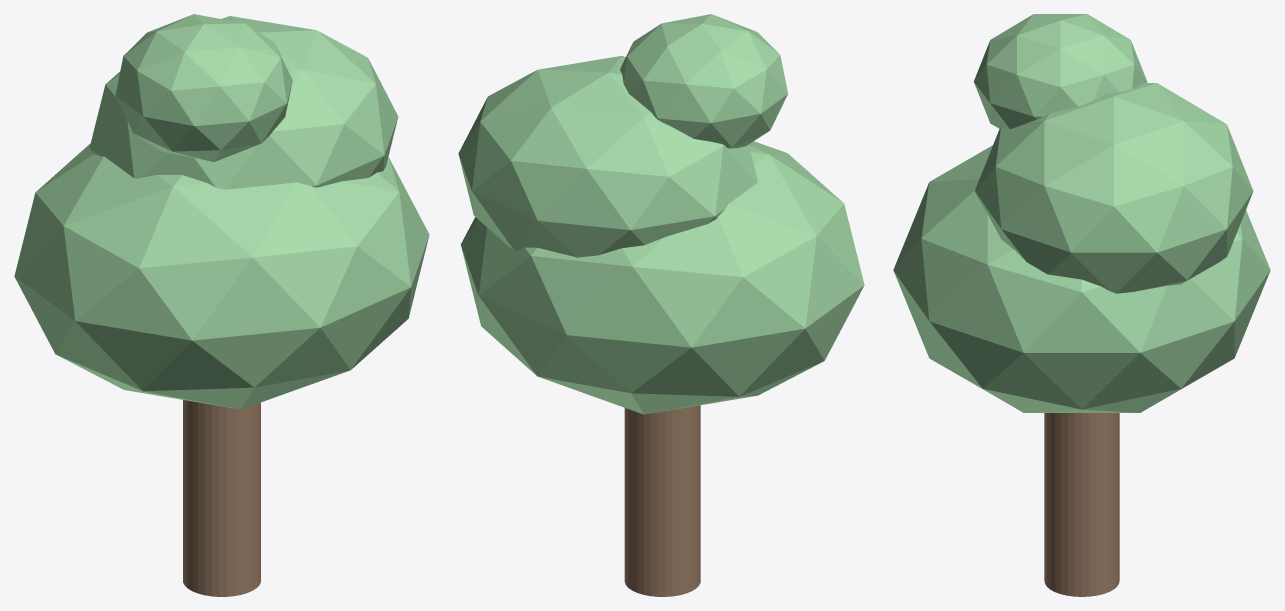
File: fantasy_tree.glb
The picture shows the model from 3 angles, left to right: view 1: azimuth 30°, elevation 25°; view 2: azimuth 150°, elevation 25°; view 3: azimuth 270°, elevation 25°; orthographic projection. The views are drawn at different scales.
Visible parts, largest first — view 1: Icosphere, Icosphere.001, Icosphere.002, Cylinder; view 2: Icosphere, Icosphere.001, Icosphere.002, Cylinder; view 3: Icosphere, Icosphere.001, Icosphere.002, Cylinder.
Part boxes in pixels (x1,y1,x2,y2): Icosphere: (14,143,429,409); Icosphere.001: (89,16,398,189); Icosphere.002: (115,14,292,161); Cylinder: (183,400,260,596); Icosphere: (460,141,864,414); Icosphere.001: (458,56,757,257); Icosphere.002: (620,14,787,148); Cylinder: (624,405,700,596); Icosphere: (893,145,1270,412); Icosphere.001: (975,83,1253,293); Icosphere.002: (973,14,1147,129); Cylinder: (1044,413,1119,596).
Size of the model in its own units: 3.65 by 5.63 by 3.52.
